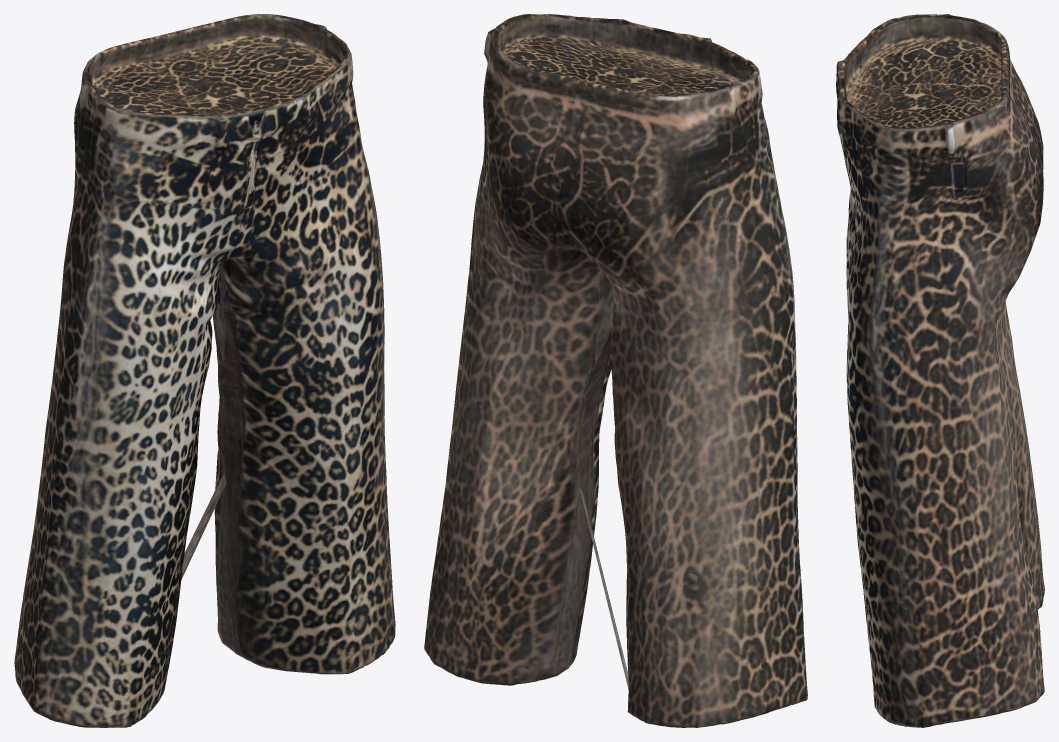
File: modelo.glb
The picture shows the model from 3 angles, left to right: view 1: azimuth 30°, elevation 25°; view 2: azimuth 150°, elevation 25°; view 3: azimuth 270°, elevation 25°; orthographic projection. The views are drawn at different scales.
Size of the model in its own units: 1.22 by 2 by 0.6416.
Materials: 1 (1 with a texture image).
